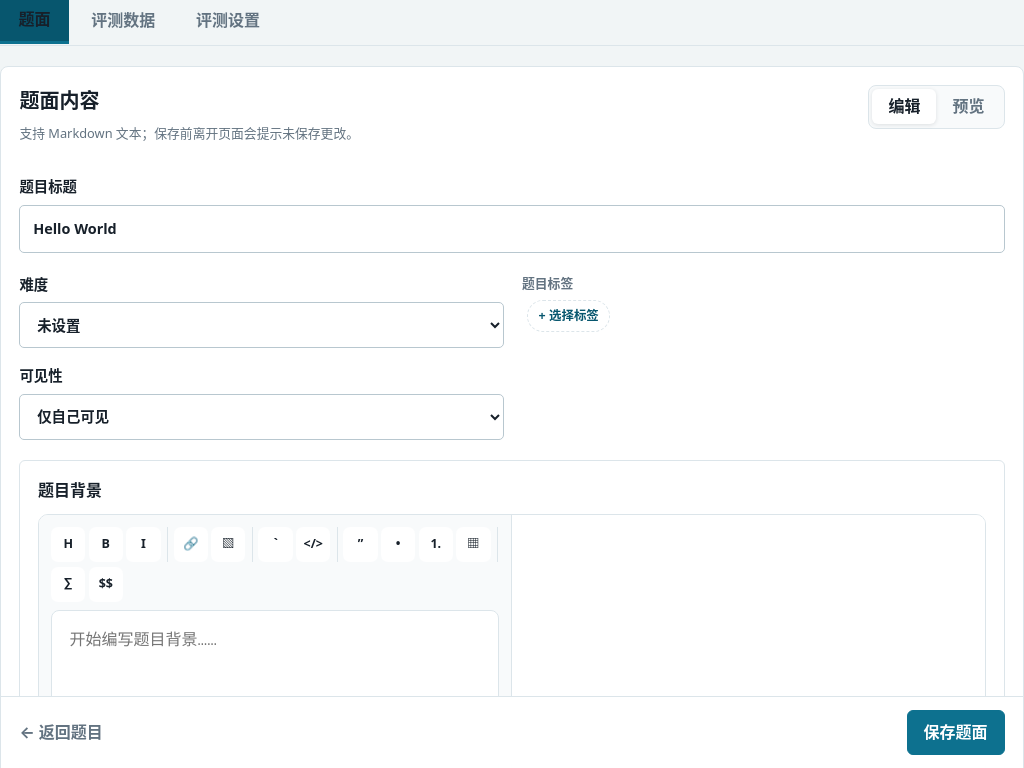
Scenario: ProblemEditor judge-data contract UI › defaults an empty judge-data editor to token whitespace while retaining exact bytes
The width and height of the screenshot is (1024, 768).
Click the button "评测设置".
click(228, 22)  # box [178, 0, 278, 45]
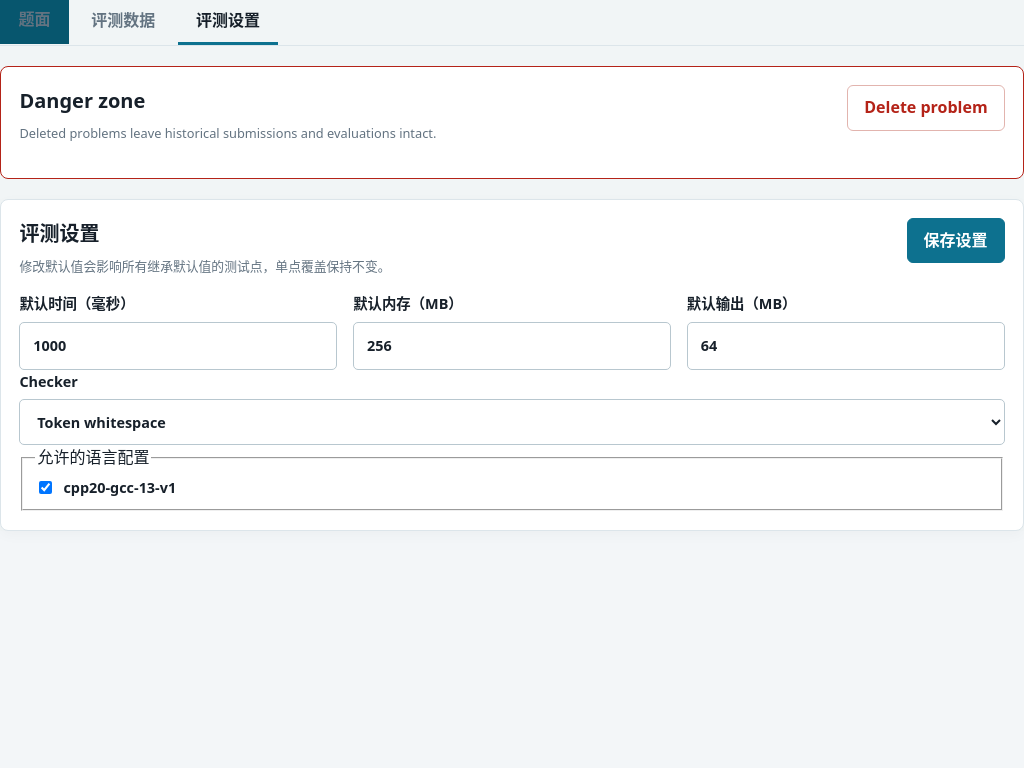
Result: the dropdown labelled "Checker" shows "Token whitespace" at [19, 399, 1005, 445]
